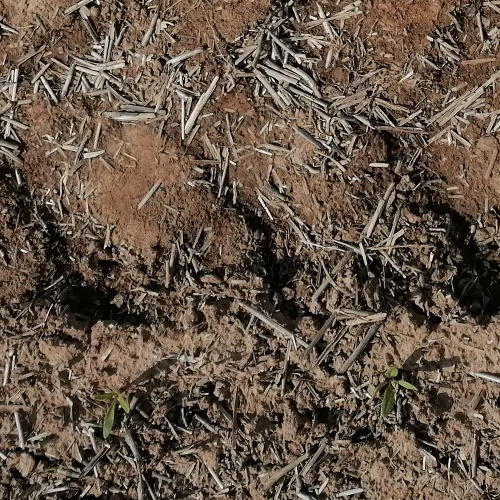beet: (378, 364, 417, 418), (96, 390, 130, 441)
